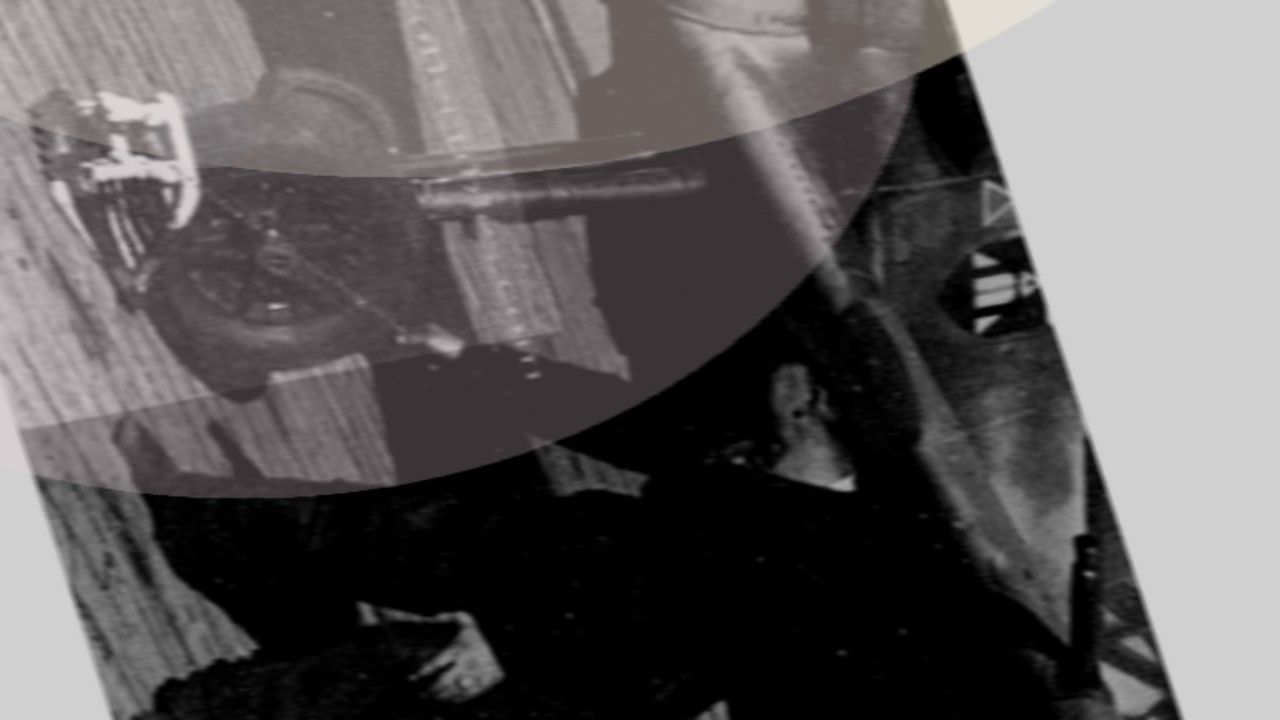chock: (7, 66, 252, 329)
wheel: (75, 42, 474, 408)
